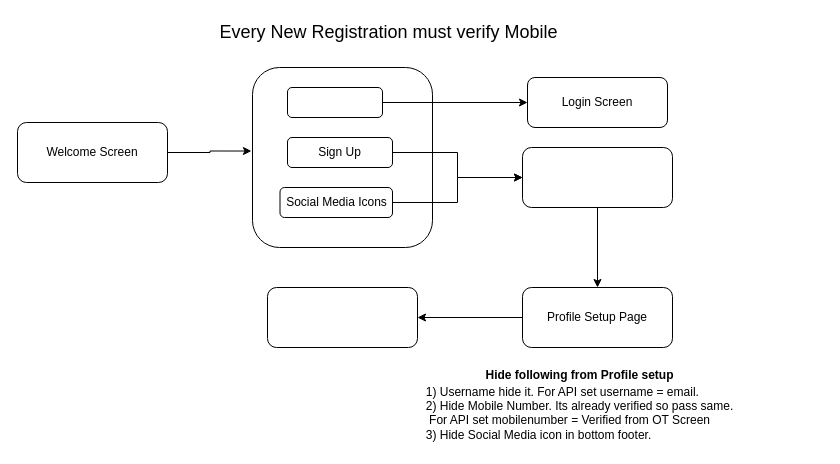
The diagram is 840 pixels wide and 464 high, and some of its shapes have lost their labels. The centre of each missing label's shape, as x and y in pixels:
"Dashboard" belongs at (342,317).
"Login" belongs at (334,102).
"OTP Verification" belongs at (597,177).
